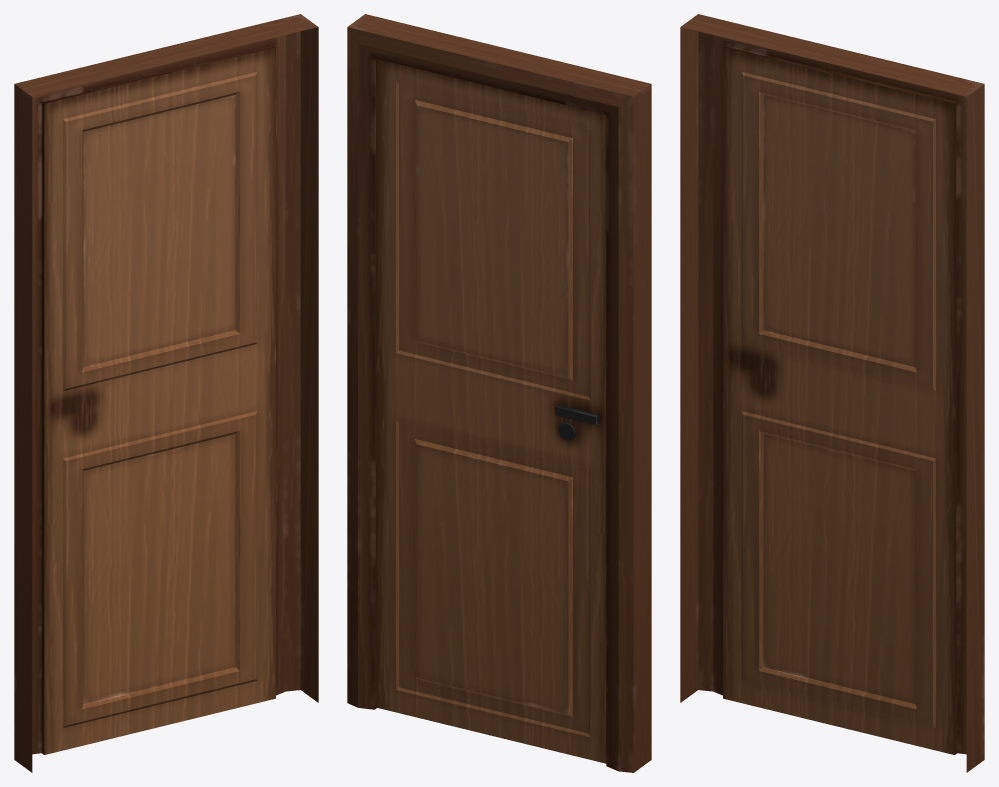
Rendered from Porte.fbx.
3 views of the same model, side by side, from view 1: azimuth 30°, elevation 25°; view 2: azimuth 150°, elevation 25°; view 3: azimuth 330°, elevation 25° (orthographic).
Visible parts, largest first — view 1: Porte; view 2: Porte; view 3: Porte.
Part boxes in pixels (x1,y1,x2,y2): Porte: (14,14,318,772); Porte: (347,14,651,772); Porte: (680,14,984,772).
Size of the model in its own units: 2.35 by 0.2846 by 5.3.
Materials: 1 (1 with a texture image).
